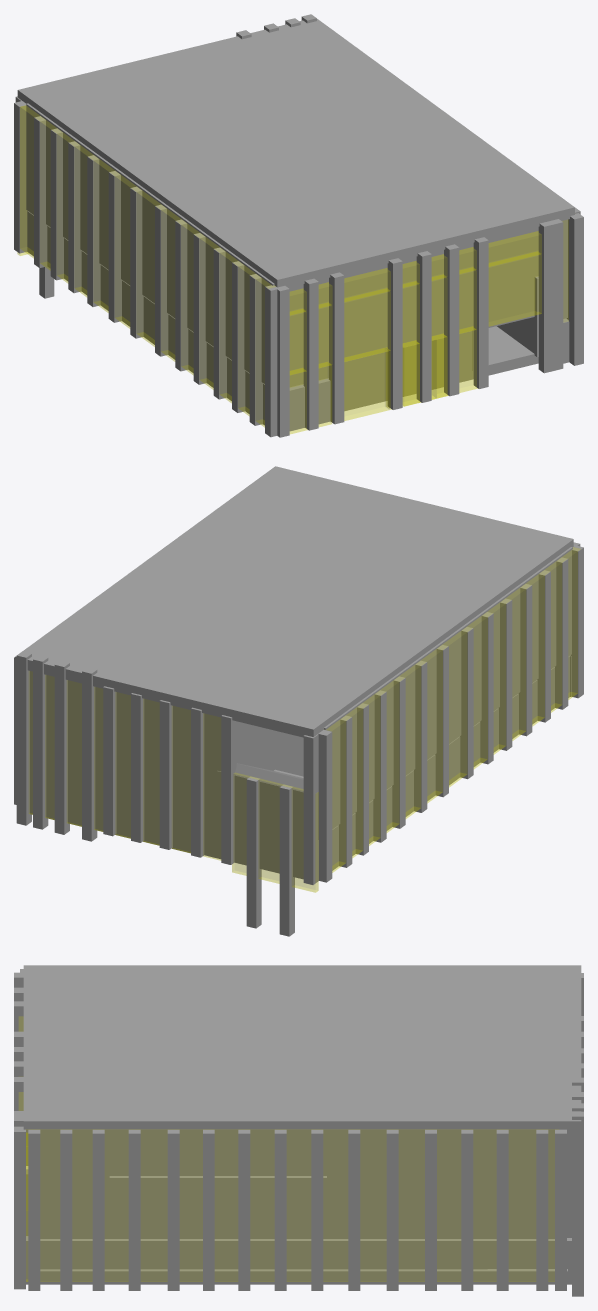
The model's file is Building in 2.fbx.
The picture shows the model from 3 angles, top to bottom: view 1: azimuth 30°, elevation 25°; view 2: azimuth 150°, elevation 25°; view 3: azimuth 270°, elevation 25°; orthographic projection. The views are drawn at different scales.
Visible parts, largest first — view 1: pCube424; view 2: pCube424; view 3: pCube424.
Boxes of the visible parts, x1,y1,x2,y2 form: pCube424: (14,14,583,437); pCube424: (14,466,583,936); pCube424: (14,965,583,1296).
Bounding box in the file's own units: 32.61 × 21.26 × 47.75.
